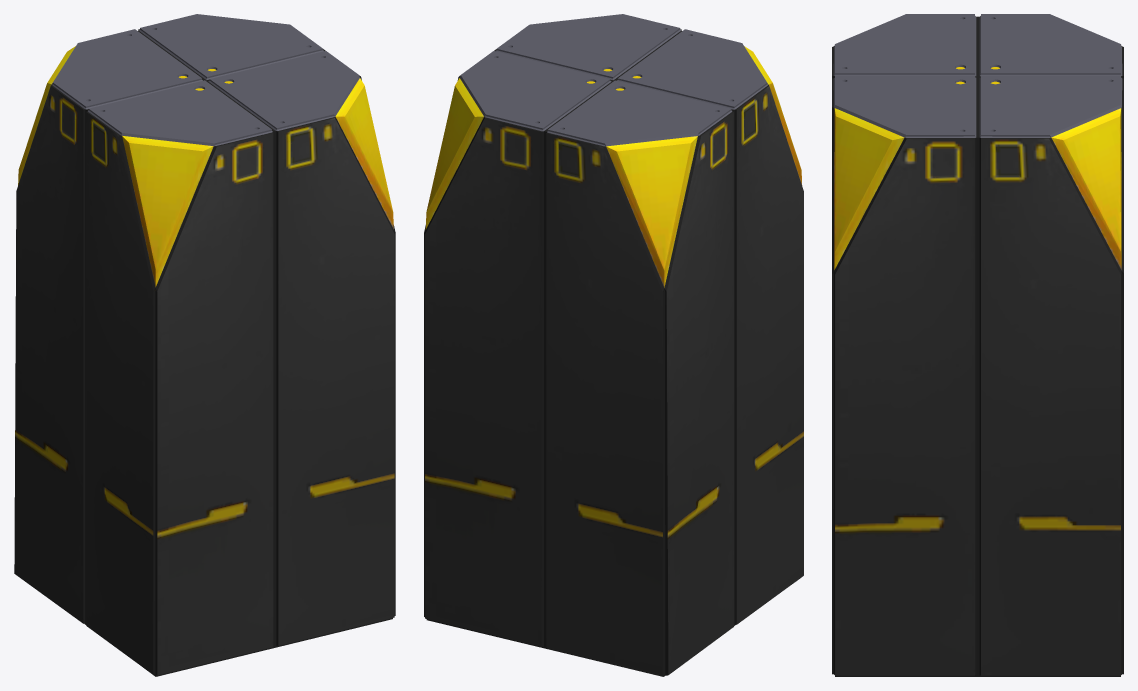
File: EMP.glb
3 renders of one model, left to right at view 1: azimuth 30°, elevation 25°; view 2: azimuth 150°, elevation 25°; view 3: azimuth 270°, elevation 25°, orthographic. The views are drawn at different scales.
Parts seen in each view (by area): view 1: EMP; view 2: EMP; view 3: EMP.
Boxes of the visible parts, x1,y1,x2,y2 form: EMP: (14, 14, 395, 676); EMP: (424, 14, 803, 676); EMP: (832, 14, 1123, 676).
Size of the model in its own units: 4.03 by 8.19 by 4.
1 material, 1 textured.
